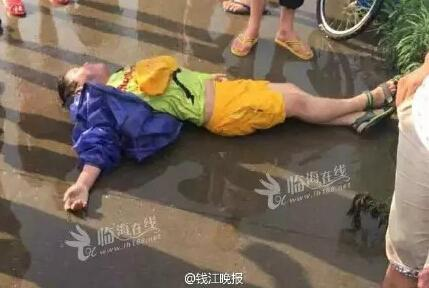Fall-Detected: (36, 37, 399, 219)
